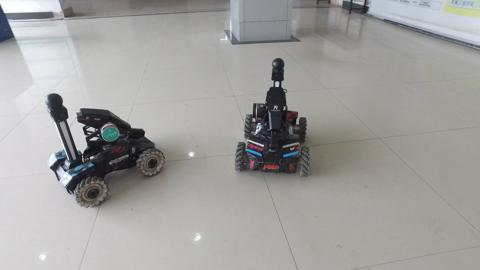chariot: (32, 89, 171, 213), (229, 55, 318, 180)
